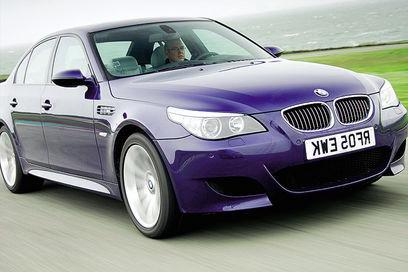Car: (2, 3, 408, 248)
